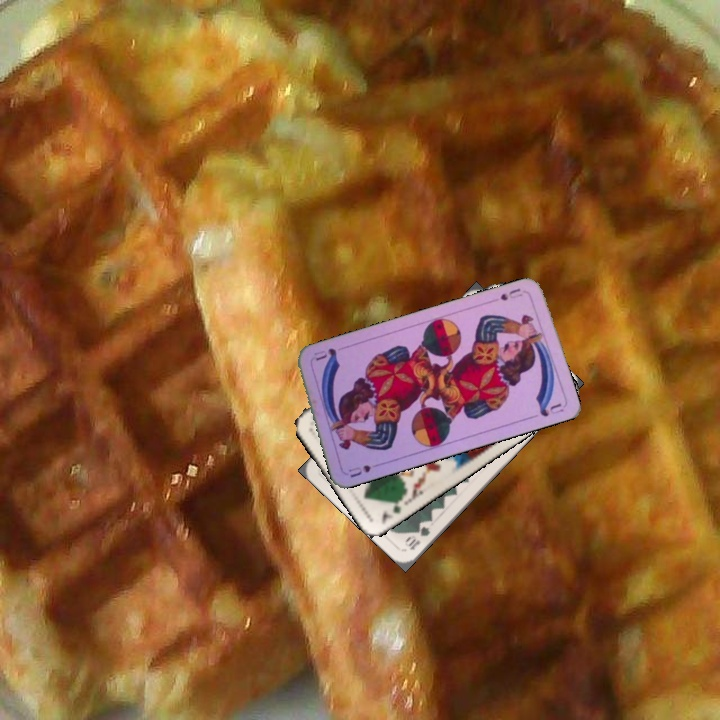G10: (405, 522, 433, 553)
GK: (377, 492, 406, 526)
SU: (344, 459, 384, 480), (496, 284, 523, 303)
